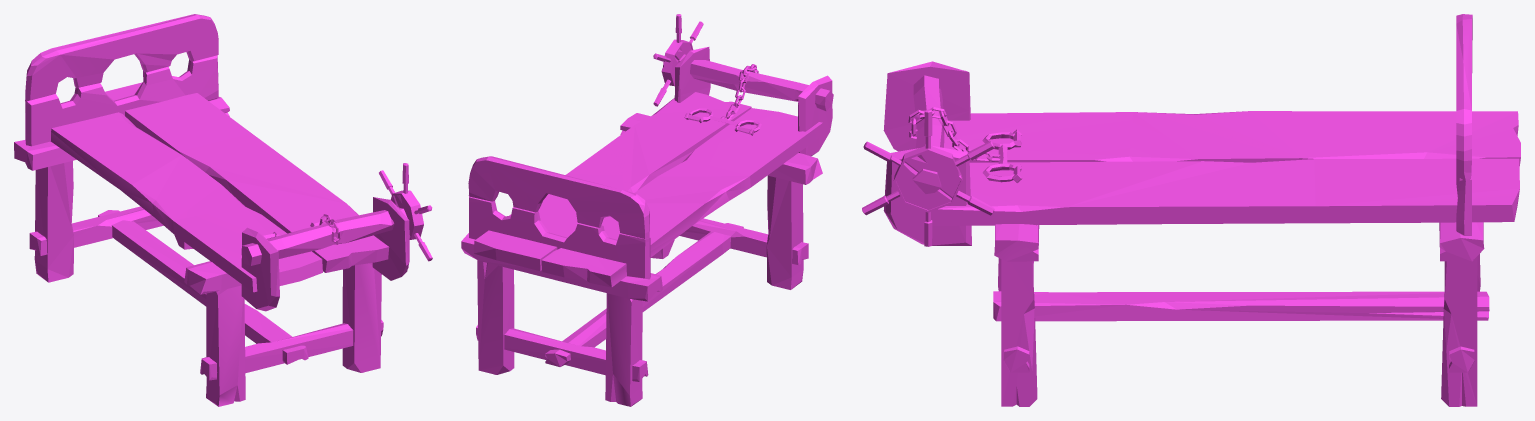
File: SM_Rack_Fantasy.fbx
3 views of the same model, side by side, from view 1: azimuth 30°, elevation 25°; view 2: azimuth 150°, elevation 25°; view 3: azimuth 270°, elevation 25° (orthographic). The views are drawn at different scales.
Visible parts, largest first — view 1: SM_Rack_Fantasy; view 2: SM_Rack_Fantasy; view 3: SM_Rack_Fantasy.
Part boxes in pixels (x1=…): SM_Rack_Fantasy: x1=14, y1=14, x2=432, y2=406; SM_Rack_Fantasy: x1=461, y1=14, x2=833, y2=406; SM_Rack_Fantasy: x1=862, y1=14, x2=1520, y2=406.
Bounding box in the file's own units: 1.1 × 1.19 × 2.41.
